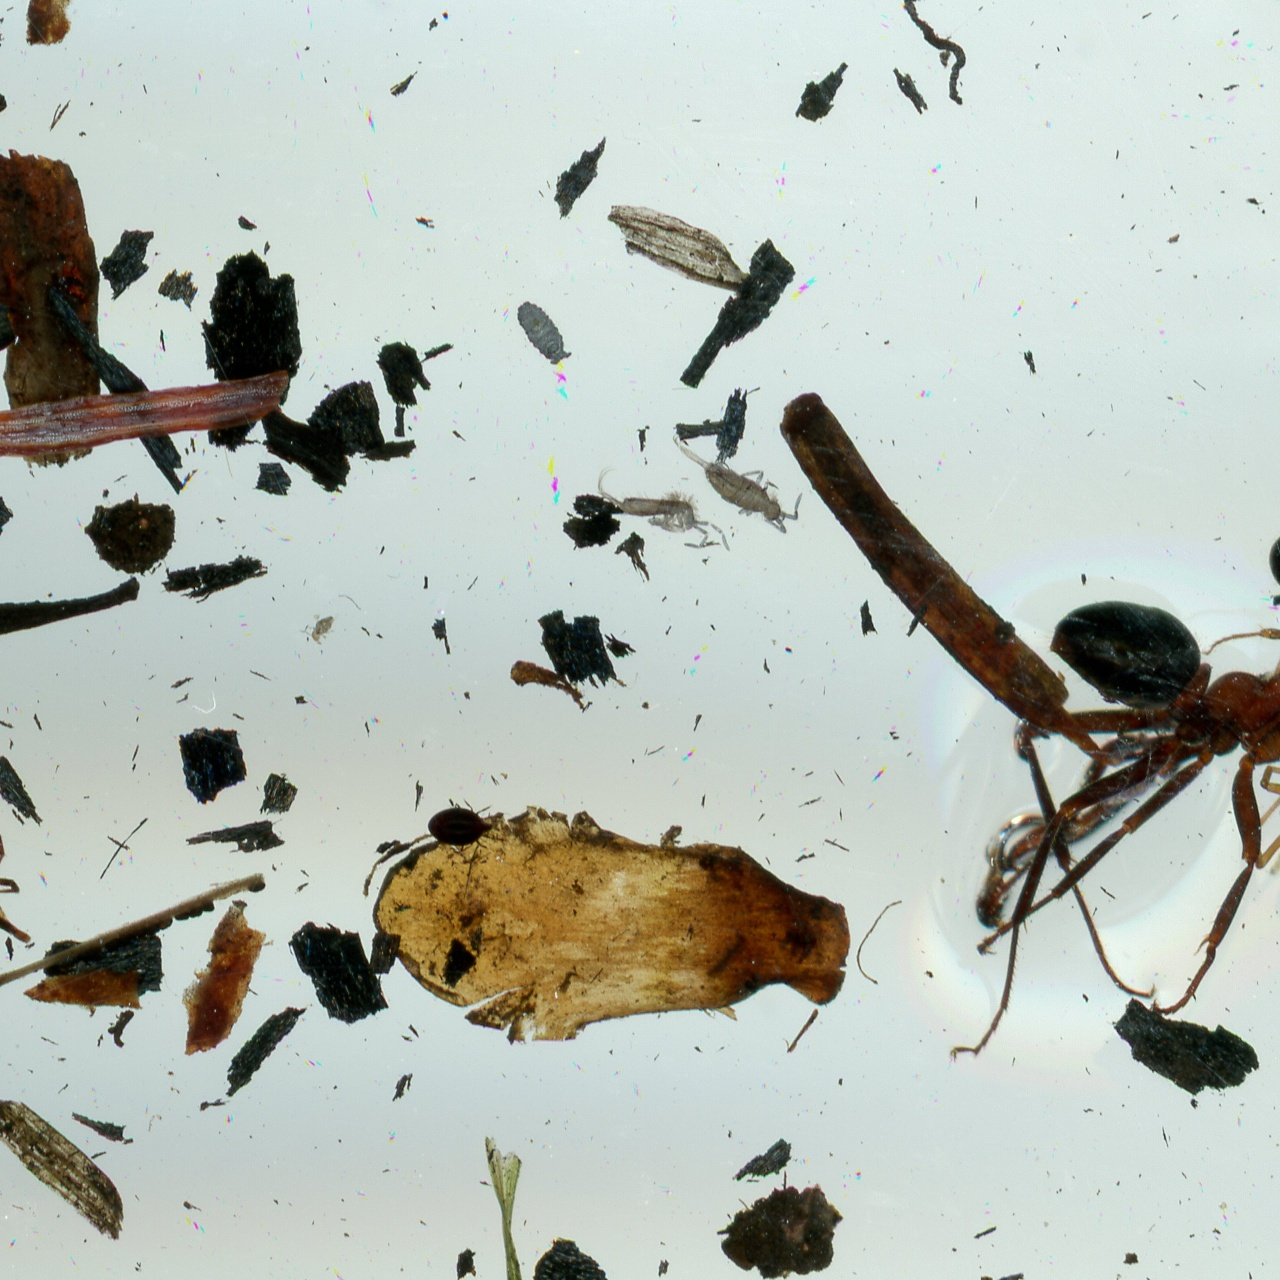arthropod: (938, 590, 1280, 1077), (1198, 467, 1280, 744), (651, 425, 819, 547), (594, 464, 734, 558), (0, 648, 43, 946), (1246, 727, 1280, 911), (508, 288, 579, 375), (425, 798, 515, 853), (299, 611, 339, 647)
